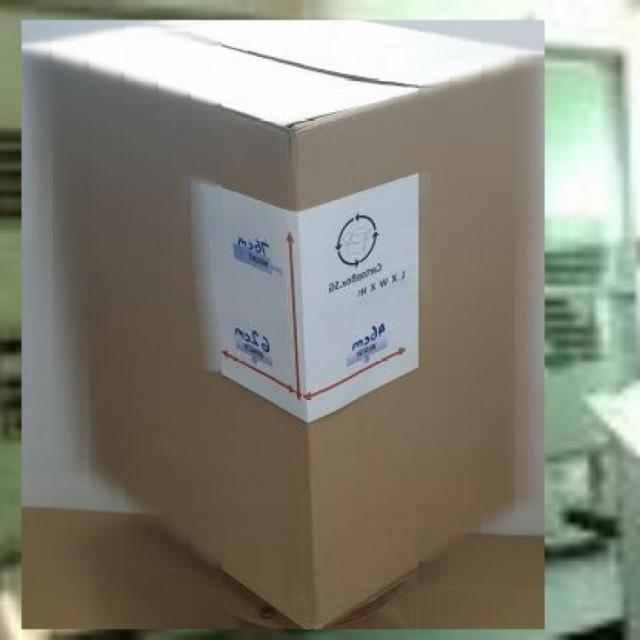box: (12, 10, 553, 640)
